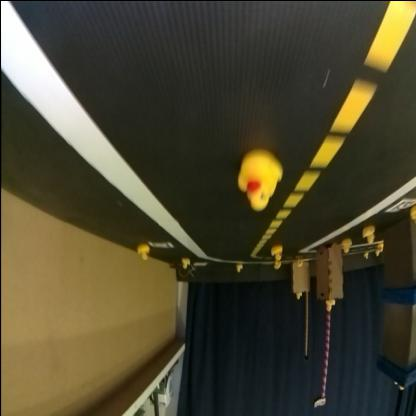Duckie: (238, 151, 283, 207), (363, 226, 375, 243), (137, 246, 149, 260), (271, 245, 282, 259), (342, 238, 352, 252), (325, 300, 335, 312), (182, 258, 190, 268), (236, 264, 242, 272), (274, 261, 280, 269), (296, 291, 302, 299), (297, 258, 302, 266)
QR code: (384, 198, 415, 213), (148, 242, 172, 249)
